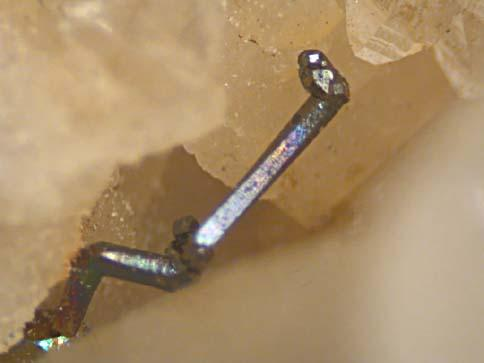pyrite: (45, 50, 352, 339)
